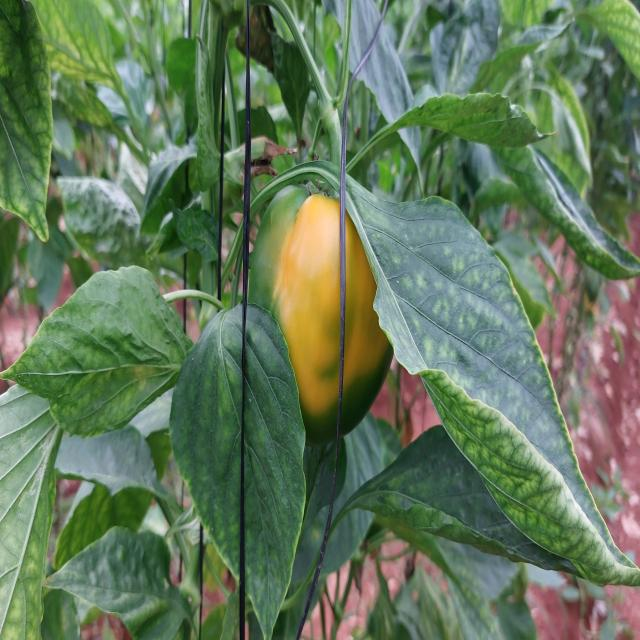GreenishYellow--Can-be-Harvested: (246, 152, 393, 438)
